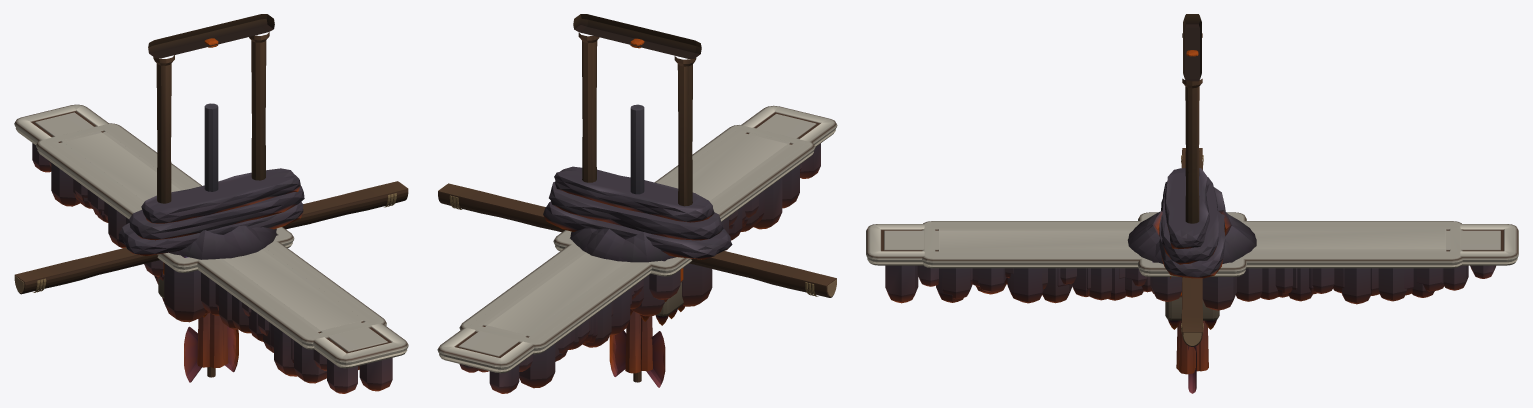
File: volcano-4-BbJ-hH3s.glb
3 views of the same model, side by side, from view 1: azimuth 30°, elevation 25°; view 2: azimuth 150°, elevation 25°; view 3: azimuth 270°, elevation 25° (orthographic). The views are drawn at different scales.
Parts seen in each view (by area): view 1: block_7x2x40#0, block_6x2x40#0, spout_11.5x2#0, block_6x2x48#0, pressFrame_6x6x2x7#0, beam_32x1x1.5#0, block_10x2x8#0, geyserVent_5#0, support_1_square#0, press_7x6x4#0, blade_3x12x1#0; view 2: block_6x2x40#0, block_7x2x40#0, spout_11.5x2#0, block_6x2x48#0, pressFrame_6x6x2x7#0, beam_32x1x1.5#0, block_10x2x8#0, geyserVent_5#0, press_7x6x4#0, support_1_square#0, blade_3x12x1#0, block_8x2x8_shard#0 (+1 smaller); view 3: block_7x2x40#0, block_6x2x40#0, block_6x2x48#0, spout_11.5x2#0, pressFrame_6x6x2x7#0, block_10x2x8#0, geyserVent_5#0, beam_32x1x1.5#0, support_1_square#0, press_7x6x4#0.
Boxes of the visible parts, bbox=[...] form: block_7x2x40#0: bbox=[36, 123, 386, 383]; block_6x2x40#0: bbox=[46, 125, 376, 369]; spout_11.5x2#0: bbox=[118, 168, 304, 255]; block_6x2x48#0: bbox=[14, 104, 408, 393]; pressFrame_6x6x2x7#0: bbox=[148, 14, 274, 203]; beam_32x1x1.5#0: bbox=[14, 181, 408, 294]; block_10x2x8#0: bbox=[144, 227, 294, 322]; geyserVent_5#0: bbox=[169, 225, 277, 259]; support_1_square#0: bbox=[197, 313, 228, 368]; press_7x6x4#0: bbox=[158, 103, 218, 317]; blade_3x12x1#0: bbox=[184, 326, 238, 382]; block_6x2x40#0: bbox=[470, 127, 804, 361]; block_7x2x40#0: bbox=[459, 125, 815, 388]; spout_11.5x2#0: bbox=[543, 166, 732, 259]; block_6x2x48#0: bbox=[437, 105, 837, 393]; pressFrame_6x6x2x7#0: bbox=[573, 14, 701, 206]; beam_32x1x1.5#0: bbox=[438, 183, 836, 297]; block_10x2x8#0: bbox=[553, 230, 712, 306]; geyserVent_5#0: bbox=[570, 220, 676, 262]; press_7x6x4#0: bbox=[630, 104, 685, 325]; support_1_square#0: bbox=[625, 311, 652, 373]; blade_3x12x1#0: bbox=[609, 330, 665, 387]; block_8x2x8_shard#0: bbox=[631, 261, 664, 316]; block_7x2x40#0: bbox=[922, 221, 1462, 304]; block_6x2x40#0: bbox=[921, 224, 1463, 302]; block_6x2x48#0: bbox=[866, 224, 1518, 303]; spout_11.5x2#0: bbox=[1159, 168, 1225, 278]; pressFrame_6x6x2x7#0: bbox=[1182, 14, 1202, 223]; block_10x2x8#0: bbox=[1138, 212, 1246, 310]; geyserVent_5#0: bbox=[1127, 210, 1256, 263]; beam_32x1x1.5#0: bbox=[1181, 148, 1203, 346]; support_1_square#0: bbox=[1176, 320, 1208, 374]; press_7x6x4#0: bbox=[1165, 292, 1219, 329].
Size of the model in its own units: 32.12 by 27.75 by 48.
